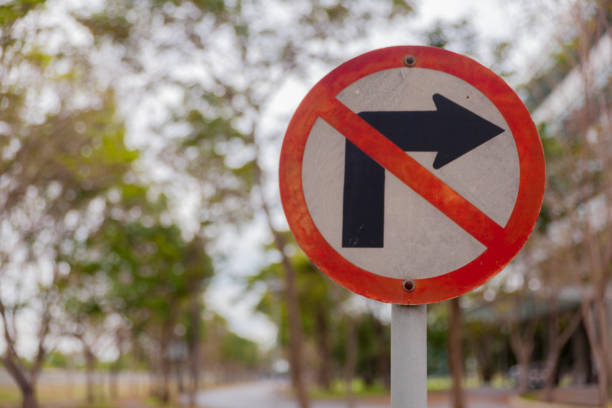saga_donulmez: (277, 34, 553, 302)
